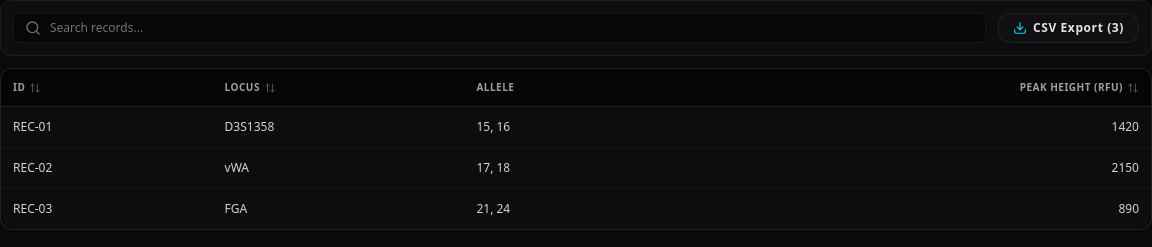
Test case: DataTable Primitive UI Component › filters rows based on search input
Type "vWA" into the field with placeholder "Search records..." at {"x": 500, "y": 28}, box [13,13,986,43]
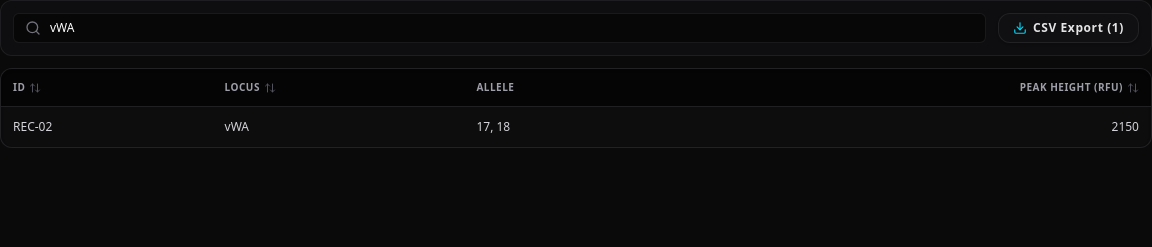
Expected: the text "vWA" is shown, [213,107,464,147]
Expected: the text "D3S1358" is gone
